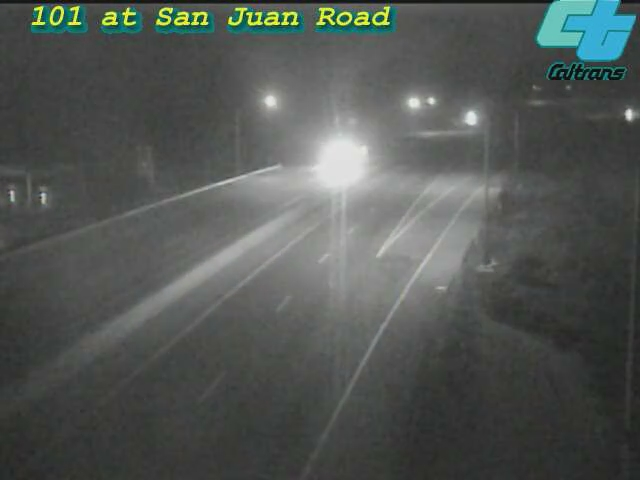vehicle: (297, 121, 377, 201), (444, 94, 494, 144), (604, 92, 640, 142)
